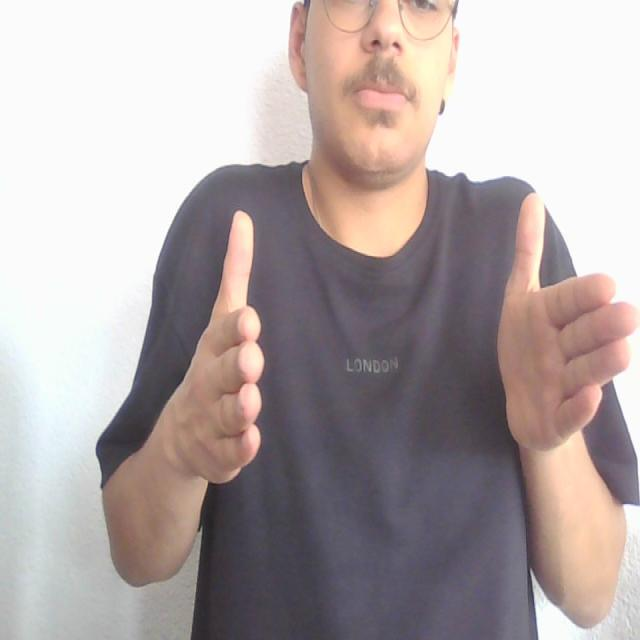Nasil: (175, 180, 638, 522)
